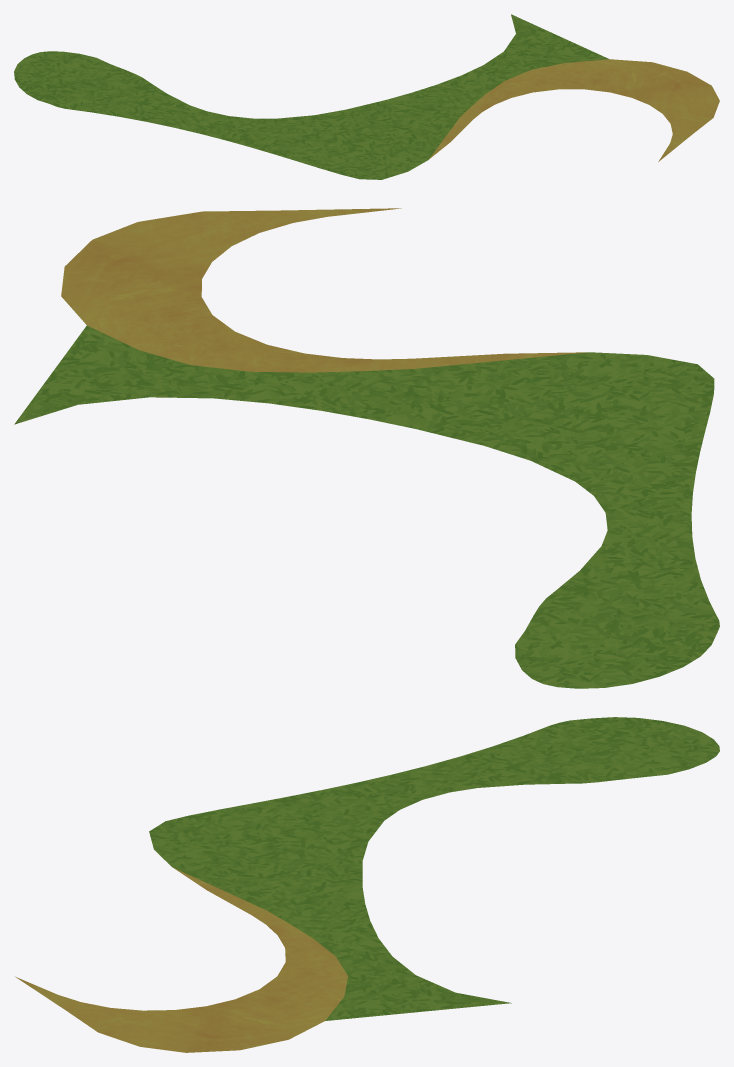
The model's file is sm_road.013.fbx.
The picture shows the model from 3 angles, top to bottom: view 1: azimuth 30°, elevation 25°; view 2: azimuth 150°, elevation 25°; view 3: azimuth 270°, elevation 25°; orthographic projection. The views are drawn at different scales.
Parts seen in each view (by area): view 1: sm_road.016; view 2: sm_road.016; view 3: sm_road.016.
Boxes of the visible parts, <box> form: sm_road.016: <box>14,14,719,179</box>; sm_road.016: <box>14,208,719,688</box>; sm_road.016: <box>15,717,719,1052</box>.
Bounding box in the file's own units: 97.36 × 0.1384 × 86.43.
